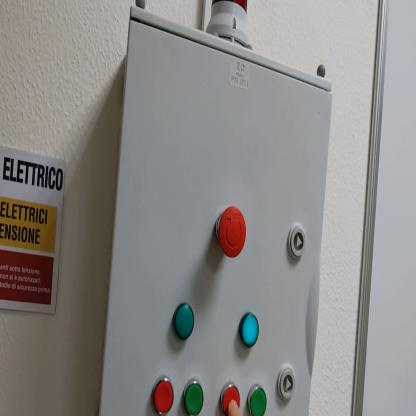hand: (230, 399, 241, 410)
left green button: (183, 381, 206, 410)
left red button: (154, 379, 174, 412)
right green button: (250, 387, 269, 411)
right red button: (220, 380, 242, 415)
